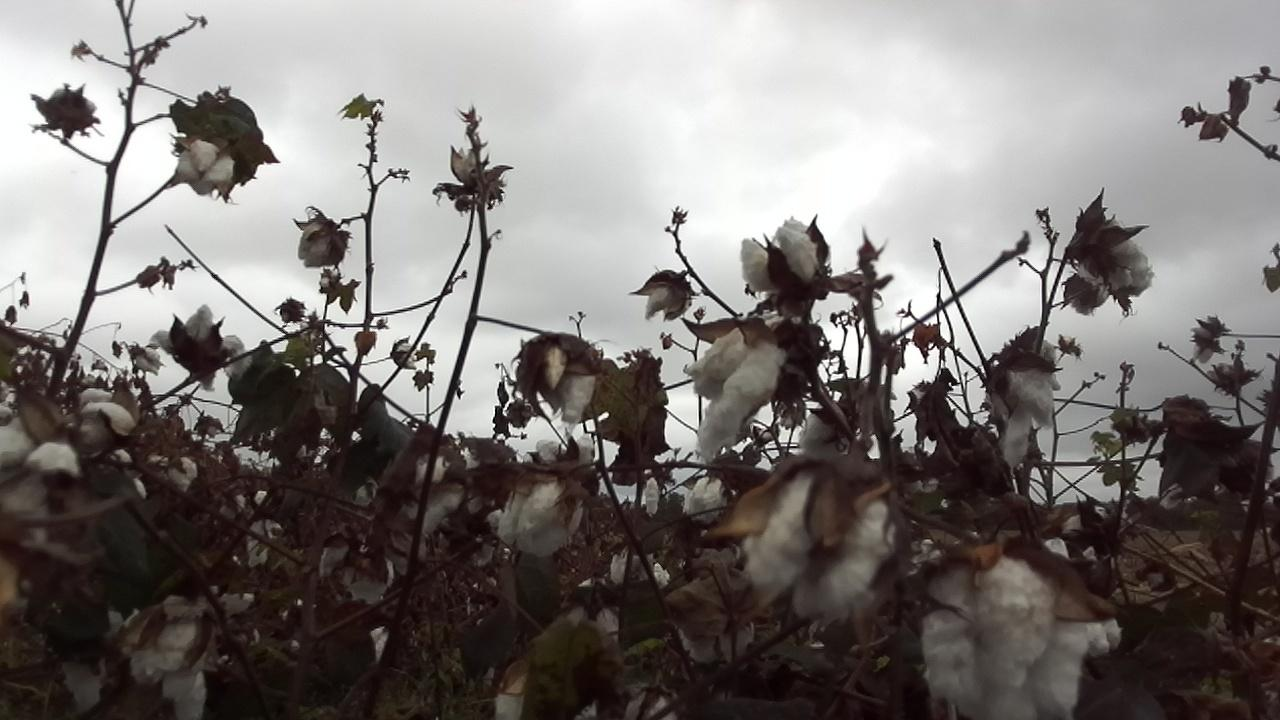cotton_ready: (919, 548, 1123, 720), (743, 470, 898, 611), (684, 325, 788, 465), (119, 598, 210, 720), (996, 341, 1062, 473), (492, 467, 587, 555), (0, 423, 80, 523), (523, 334, 600, 428), (1074, 217, 1155, 302), (316, 524, 396, 606), (739, 221, 822, 293), (149, 303, 248, 362), (167, 139, 237, 200), (797, 410, 849, 467), (296, 213, 350, 267), (521, 434, 597, 471), (80, 384, 133, 437), (685, 473, 737, 526), (641, 271, 686, 321)
